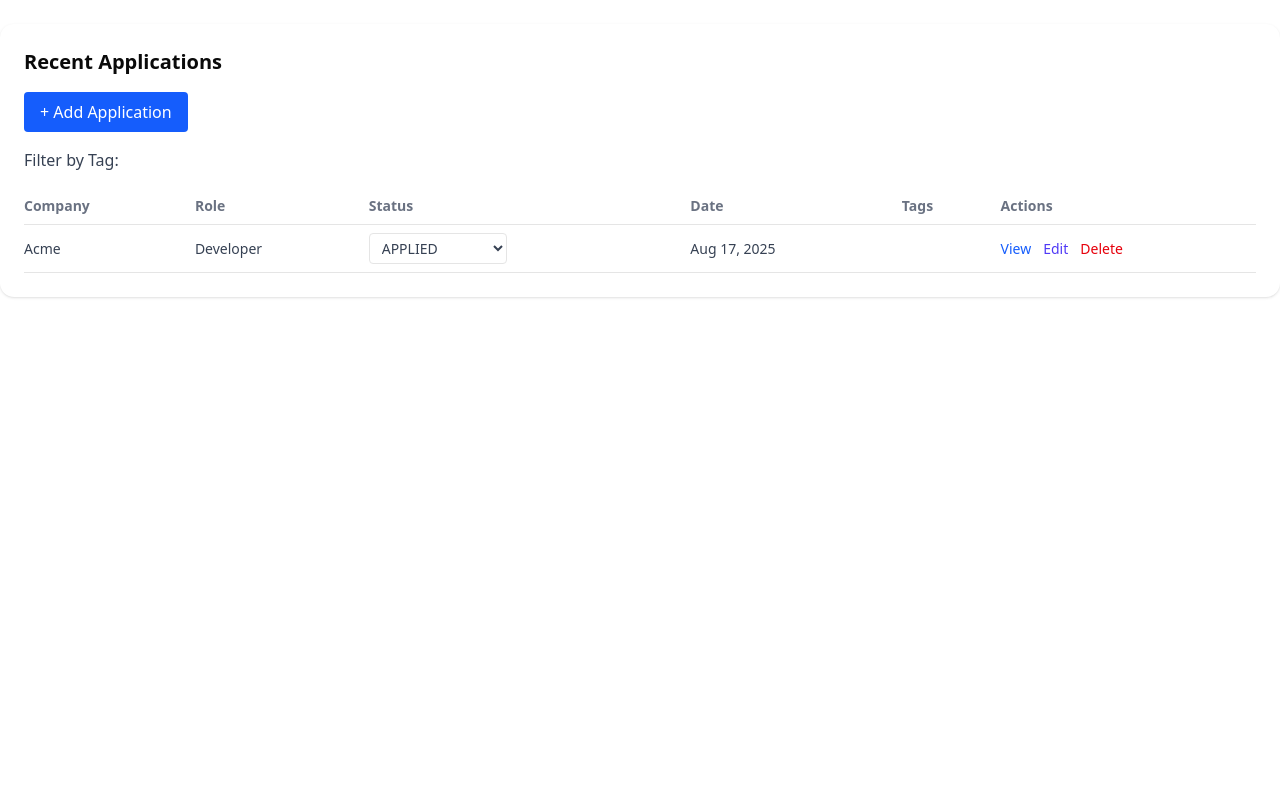
Scenario: clicking edit sets the correct application as editingApp
Expected: the text "Acme" is shown, top-left (24, 224), bottom-right (195, 272)
Click the edit button
Click the button "Edit" at (1056, 248), box top-left (1043, 238), bottom-right (1068, 258)
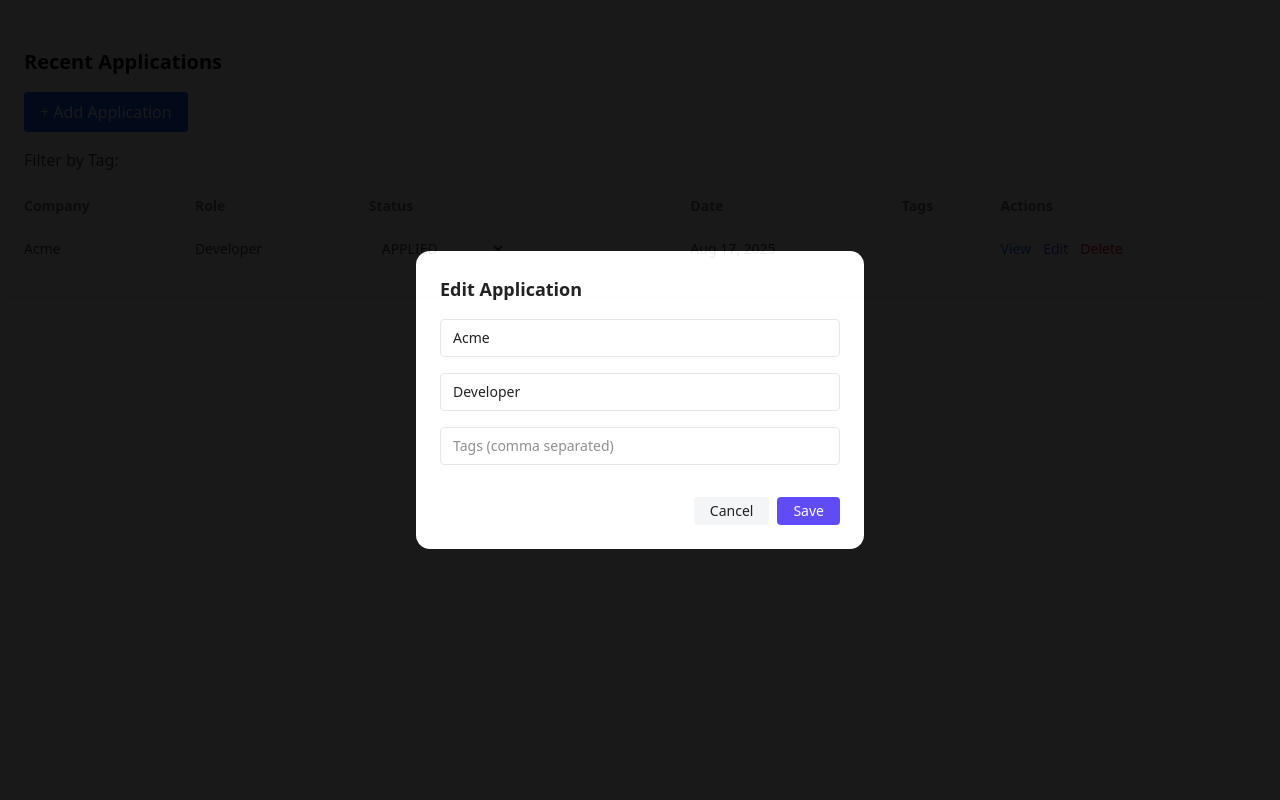
Expected: the 1st field showing "Acme" is shown, top-left (440, 319), bottom-right (840, 357)
Expected: the 2nd field showing "Developer" is shown, top-left (440, 373), bottom-right (840, 411)
